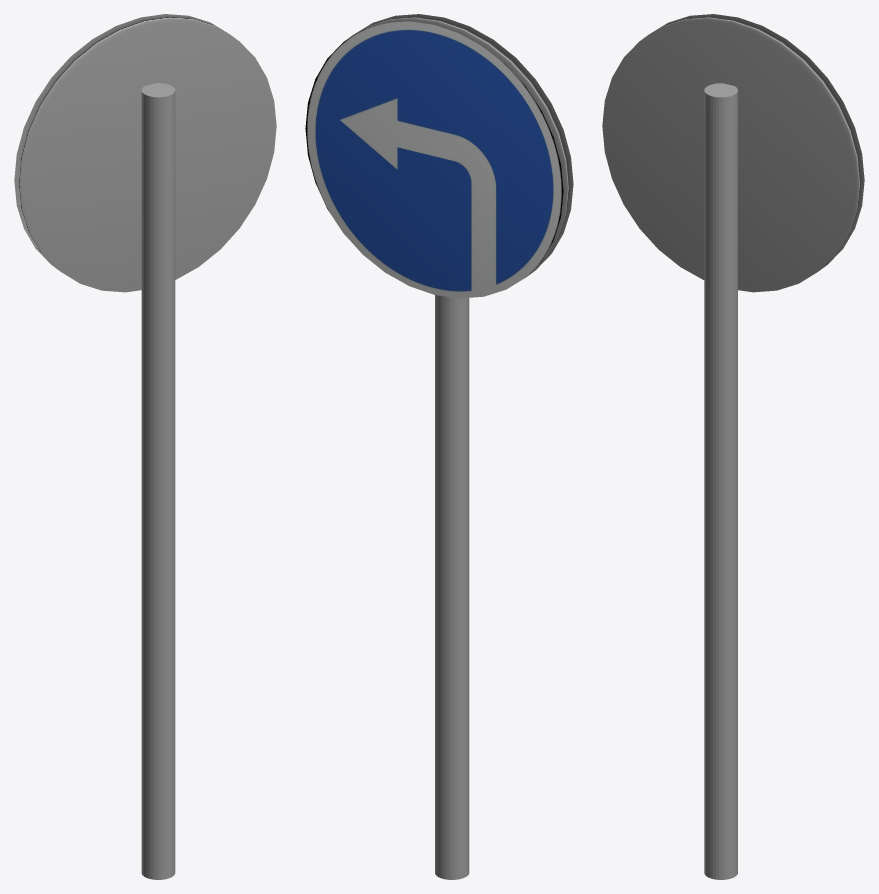
File: ЗнакДвижениеНалево.fbx
The picture shows the model from 3 angles, left to right: view 1: azimuth 30°, elevation 25°; view 2: azimuth 150°, elevation 25°; view 3: azimuth 330°, elevation 25°; orthographic projection. The views are drawn at different scales.
Visible parts, largest first — view 1: Знак; view 2: Знак; view 3: Знак.
Part boxes in pixels (x1,y1,x2,y2): Знак: (14, 14, 276, 879); Знак: (305, 14, 573, 879); Знак: (602, 14, 864, 879).
Bounding box in the file's own units: 64.18 × 361 × 1150.
2 materials, 1 textured.
